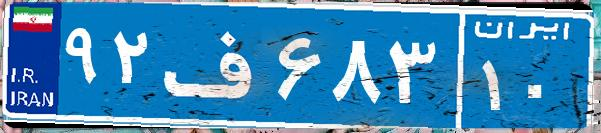0: (525, 38, 570, 115)
1: (475, 38, 525, 113)
2: (110, 28, 158, 105)
3: (385, 28, 445, 110)
6: (273, 28, 330, 110)
8: (330, 28, 385, 110)
9: (57, 26, 110, 107)
ف: (158, 15, 273, 115)
